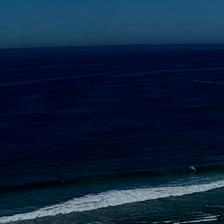surfer: (118, 170, 122, 174), (63, 180, 67, 183), (48, 180, 51, 183), (128, 166, 132, 168), (116, 180, 119, 182)
